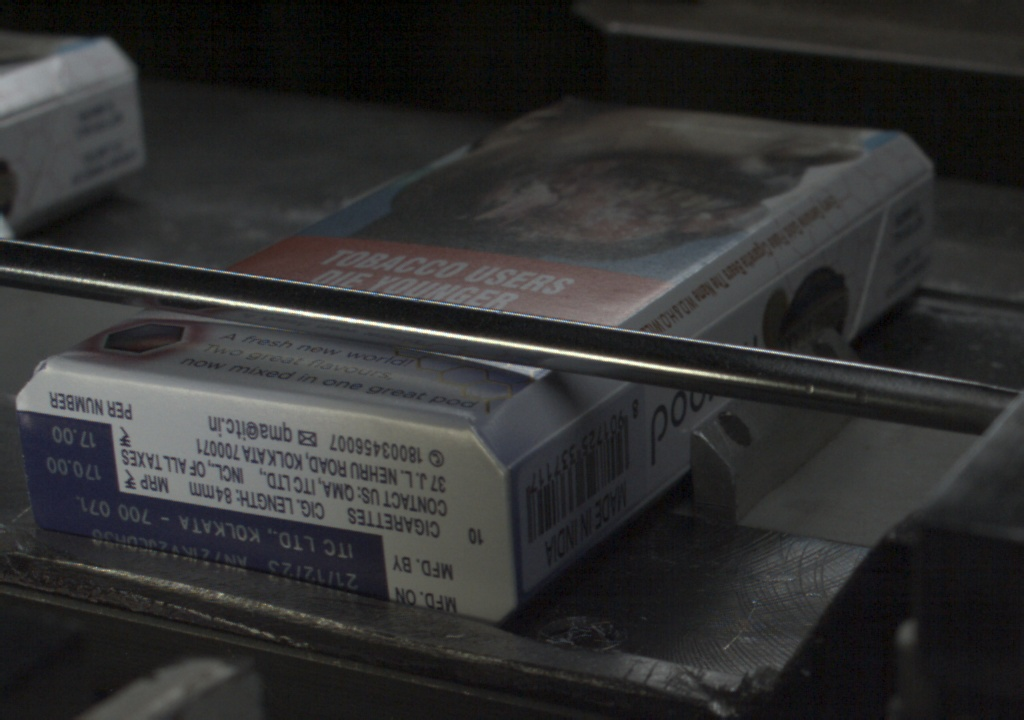g_bottom: (17, 361, 505, 625)
g_label: (31, 489, 390, 597)
g_lmiter: (699, 269, 793, 335), (797, 207, 882, 269), (504, 427, 565, 472), (564, 382, 624, 427)
g_miter: (884, 163, 935, 205)
price: (22, 418, 116, 488)
